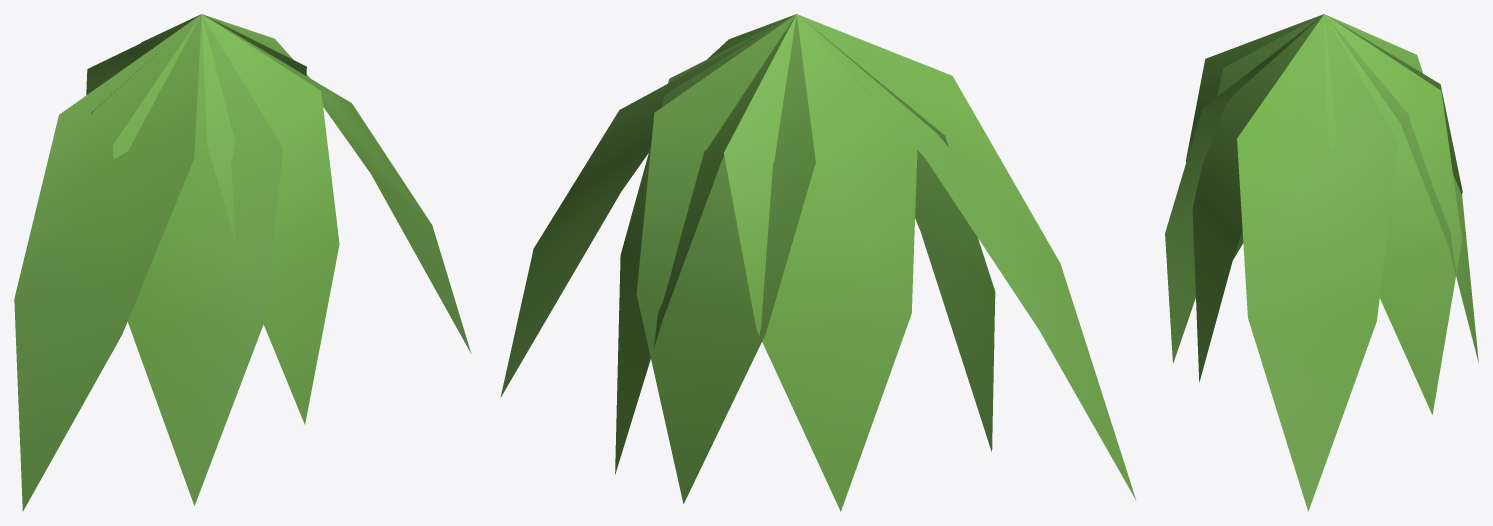
File: world_fern_c.fbx
3 views of the same model, side by side, from view 1: azimuth 30°, elevation 25°; view 2: azimuth 150°, elevation 25°; view 3: azimuth 270°, elevation 25° (orthographic). The views are drawn at different scales.
Visible parts, largest first — view 1: world_fern_c; view 2: world_fern_c; view 3: world_fern_c.
Boxes of the visible parts, x1=… form: world_fern_c: x1=14, y1=14, x2=471, y2=511; world_fern_c: x1=500, y1=14, x2=1136, y2=511; world_fern_c: x1=1165, y1=14, x2=1478, y2=511.
Bounding box in the file's own units: 188 × 149 × 109.
